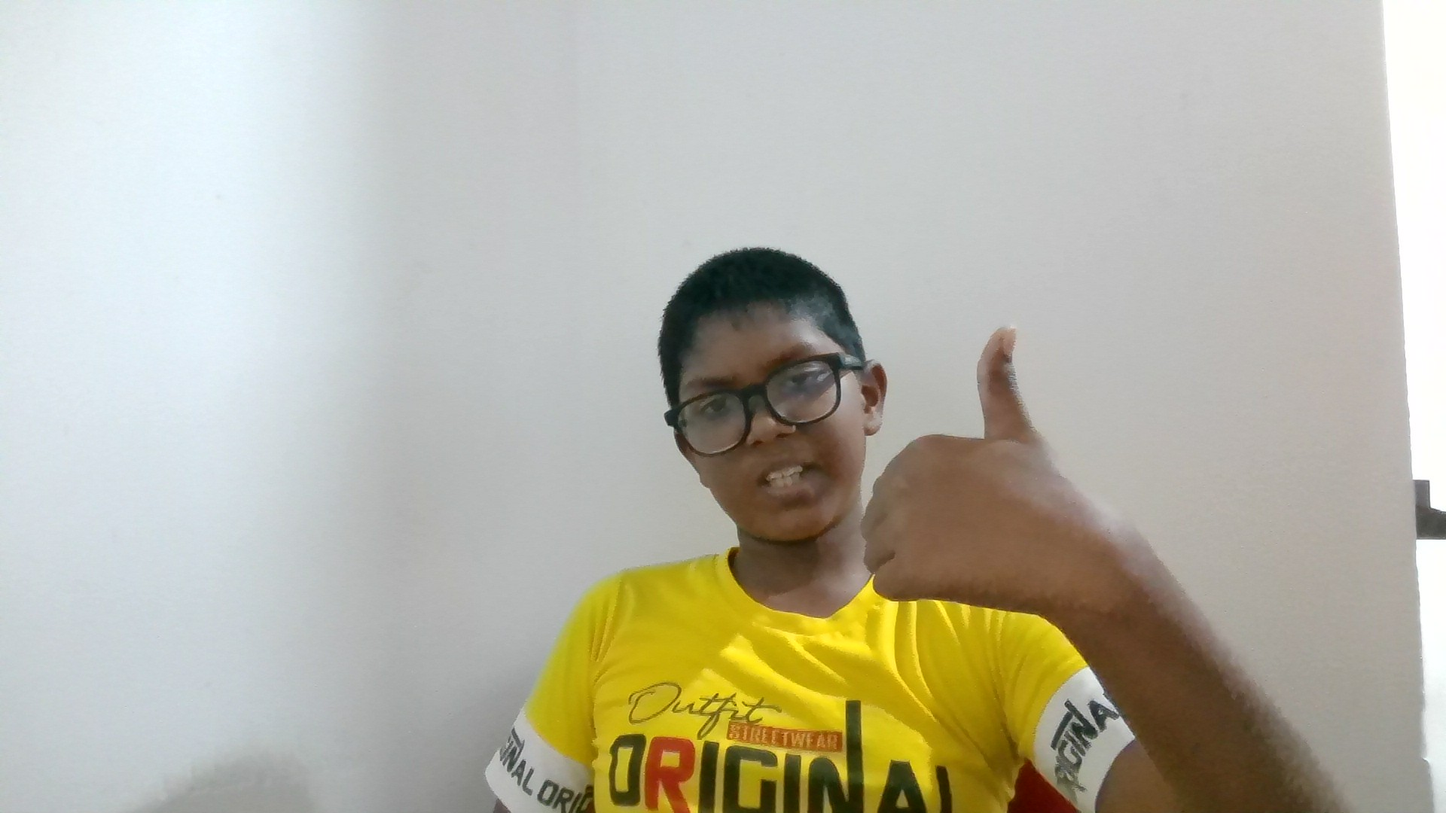Thumbs Up: (838, 226, 1216, 659)
